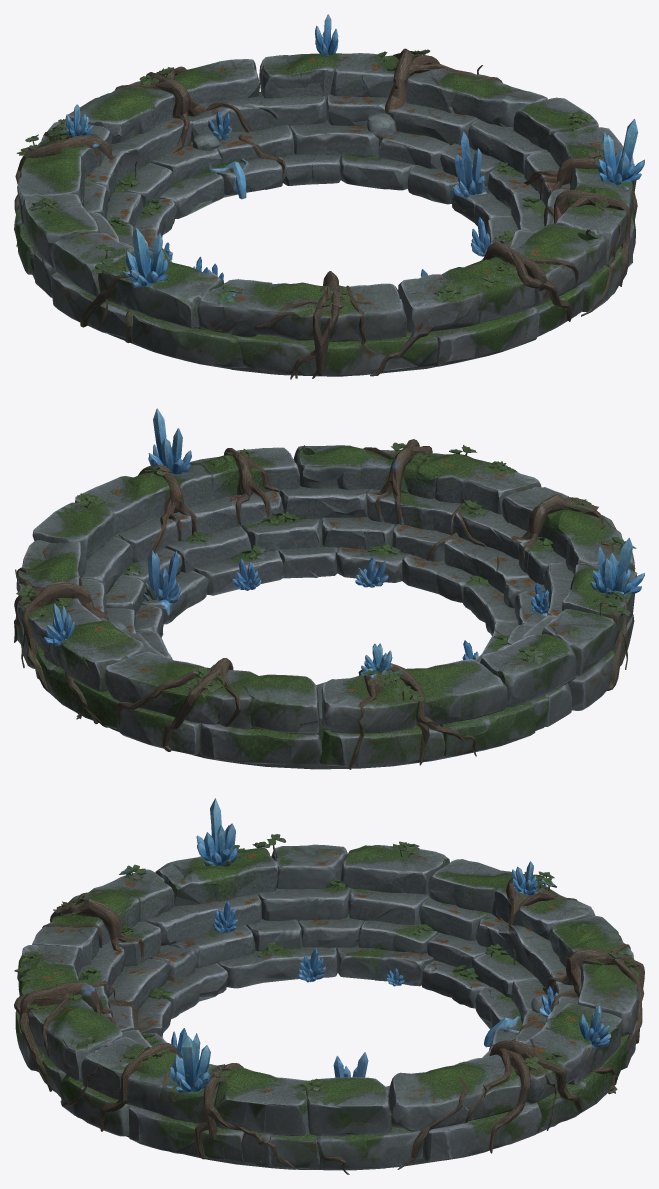
Rendered from glass_sink_hero.glb.
The picture shows the model from 3 angles, top to bottom: view 1: azimuth 30°, elevation 25°; view 2: azimuth 150°, elevation 25°; view 3: azimuth 270°, elevation 25°; orthographic projection.
Visible parts, largest first — view 1: Mesh_0; view 2: Mesh_0; view 3: Mesh_0.
Part boxes in pixels (x1=…): Mesh_0: x1=14, y1=14, x2=644, y2=379; Mesh_0: x1=14, y1=408, x2=644, y2=769; Mesh_0: x1=14, y1=798, x2=644, y2=1174.
Size of the model in its own units: 1.89 by 0.4417 by 1.9.
Materials: 1 (1 with a texture image).
